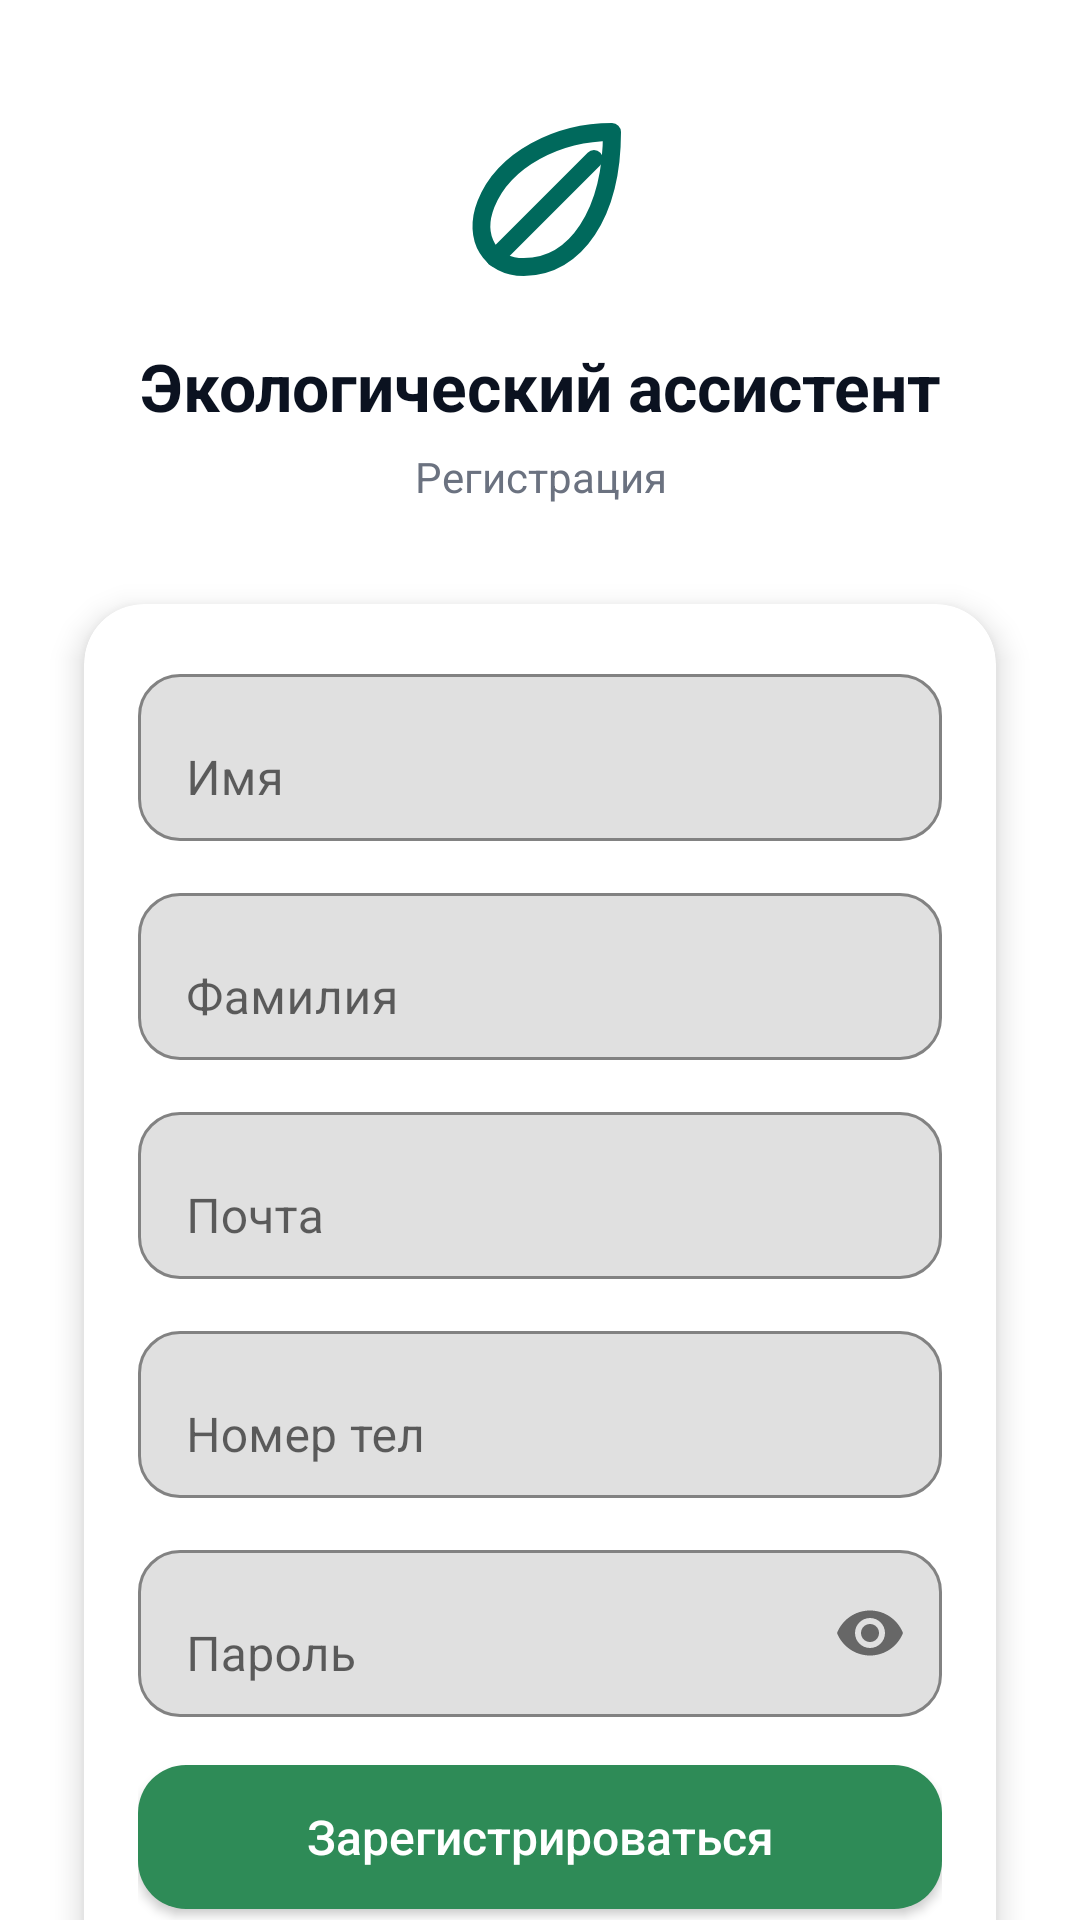

Screen size 1080px×1920px. Icon name, then its box in pixels as [x1,y1,x2,y2]:
leaf: [472,123,621,276]
